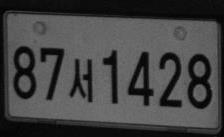1: (99, 49, 125, 104)
2: (158, 51, 182, 106)
4: (127, 51, 154, 106)
7: (39, 47, 65, 100)
8: (187, 53, 213, 110), (12, 44, 37, 100)
서: (68, 58, 93, 103)
